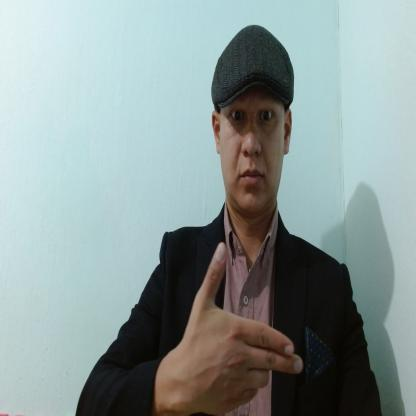H: (182, 240, 304, 415)
